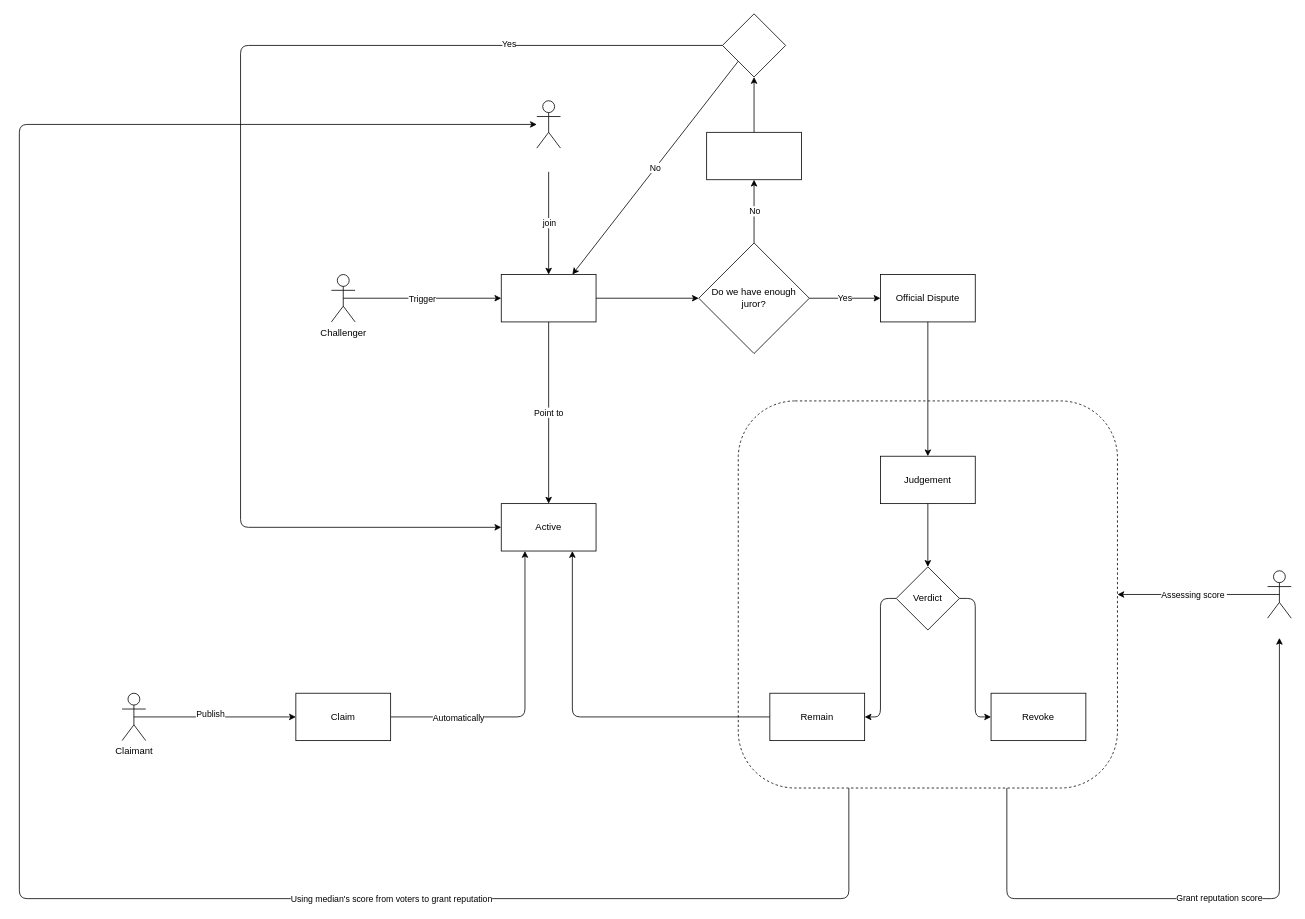
Some shapes in this 1305 by 919 pixel diagram are drawn without their labels. Here are the shapes that lost their labels. From the top down, the centre of each, then its label:
At [754,45]: "Time out".
At [548,124]: "Juror".
At [753,156]: "Selection Phases".
At [548,298]: "Pending Dispute".
At [1279,594]: "Voter".
